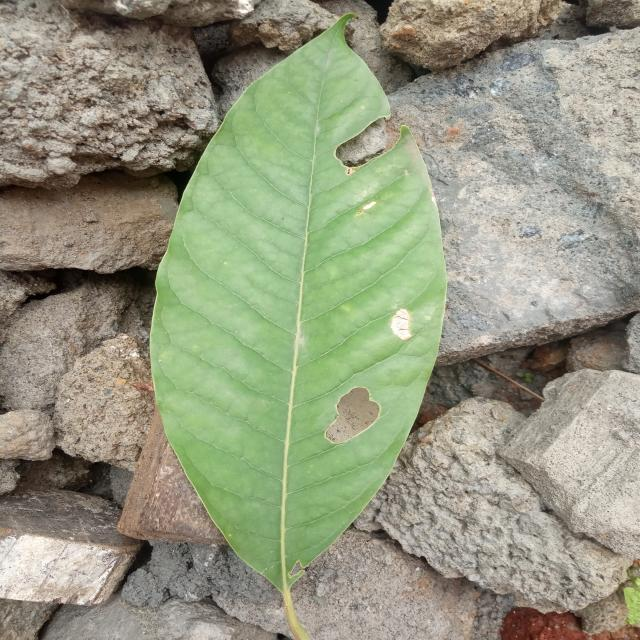coffee leaf rust: (152, 16, 447, 640)
